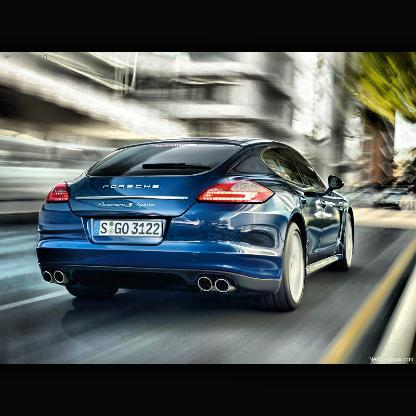Porsche Panamera Sedan 2012: (36, 140, 357, 312)
